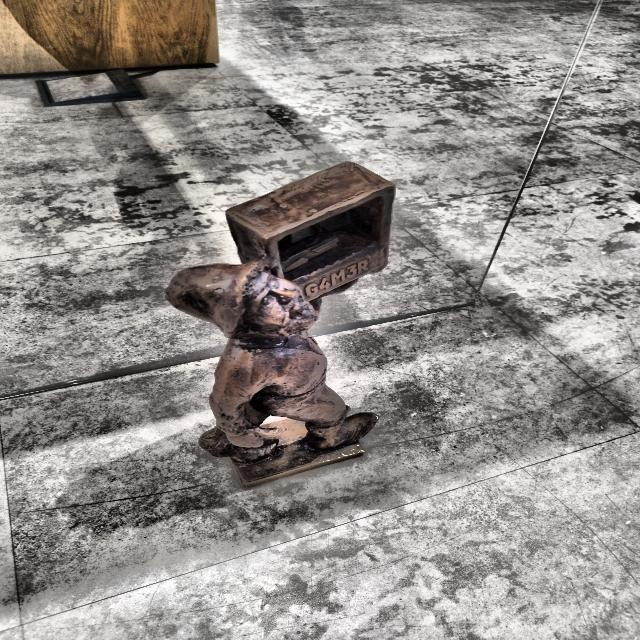GigaHercjusz: (165, 162, 395, 488)
